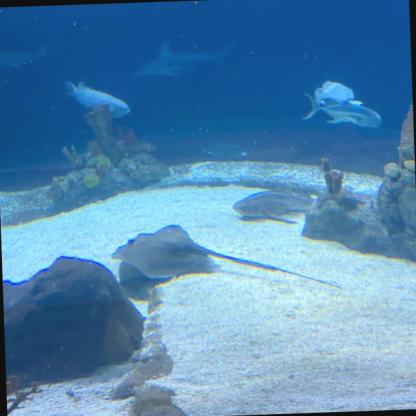fish: (232, 187, 324, 220), (62, 81, 130, 118), (299, 101, 388, 127), (307, 81, 361, 105)
shark: (133, 44, 225, 78)
stingray: (110, 222, 211, 278)
